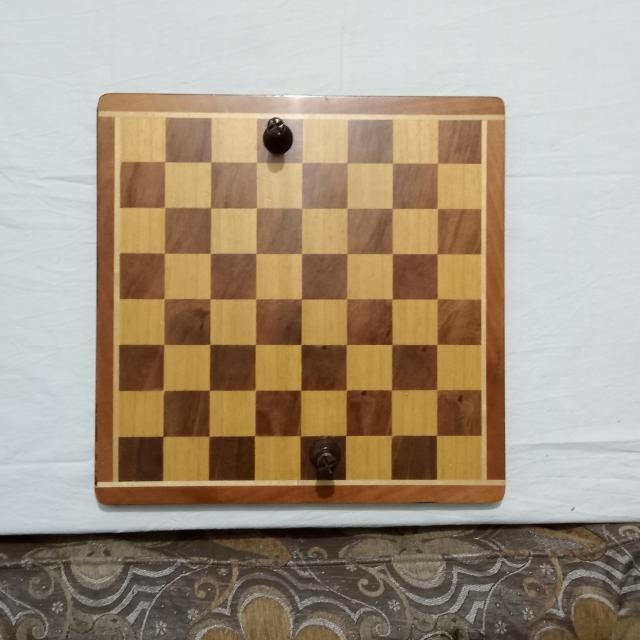black-rook: (262, 113, 294, 154), (309, 437, 342, 475)
